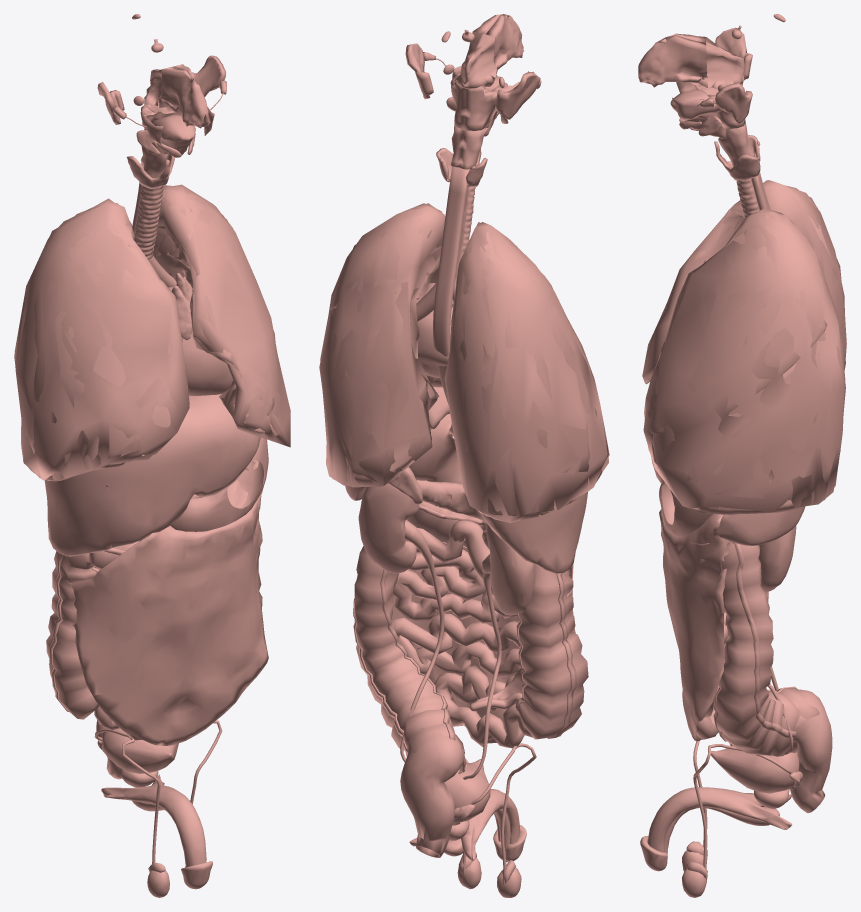
The model's file is organs.glb.
3 views of the same model, side by side, from view 1: azimuth 30°, elevation 25°; view 2: azimuth 150°, elevation 25°; view 3: azimuth 270°, elevation 25° (orthographic). The views are drawn at different scales.
Visible parts, largest first — view 1: Pleura.001, Greater omentum.001, Liver.001, Ascending colon.001, Stomach.001, Corpus cavernosum of penis.001, Mucosa of nasal cavity.001, Urinary bladder.001, Right ventricle.001, Trachea.001, Tongue.001, Superior lobe of left lung.001 (+10 smaller); view 2: Pleura.001, Jejunum.001, Ascending colon.001, Descending colon.001, Sigmoid colon.001, Liver.001, Kidney.l.001, Oesophagus.001, Kidney.r.001, Greater omentum.001, Stomach.001, Oropharynx.001 (+21 smaller); view 3: Pleura.001, Descending colon.001, Greater omentum.001, Sigmoid colon.001, Corpus cavernosum of penis.001, Mucosa of nasal cavity.001, Urinary bladder.001, Spleen.001, Superior lobe of left lung.001, Kidney.l.001, Stomach.001, Nasopharynx.001 (+15 smaller).
Boxes of the visible parts, x1=… form: Pleura.001: x1=14, y1=184, x2=290, y2=480; Greater omentum.001: x1=65, y1=473, x2=268, y2=745; Liver.001: x1=44, y1=394, x2=260, y2=556; Ascending colon.001: x1=46, y1=551, x2=99, y2=719; Stomach.001: x1=170, y1=437, x2=268, y2=531; Corpus cavernosum of penis.001: x1=101, y1=774, x2=206, y2=867; Mucosa of nasal cavity.001: x1=159, y1=64, x2=210, y2=128; Urinary bladder.001: x1=102, y1=728, x2=178, y2=773; Right ventricle.001: x1=182, y1=332, x2=232, y2=396; Trachea.001: x1=134, y1=185, x2=163, y2=260; Tongue.001: x1=152, y1=114, x2=195, y2=154; Superior lobe of left lung.001: x1=163, y1=188, x2=274, y2=428; Pleura.001: x1=319, y1=203, x2=609, y2=523; Jejunum.001: x1=392, y1=528, x2=532, y2=748; Ascending colon.001: x1=517, y1=564, x2=588, y2=739; Descending colon.001: x1=354, y1=546, x2=466, y2=773; Sigmoid colon.001: x1=400, y1=727, x2=464, y2=857; Liver.001: x1=428, y1=387, x2=587, y2=573; Kidney.l.001: x1=358, y1=483, x2=419, y2=573; Oesophagus.001: x1=433, y1=166, x2=469, y2=436; Kidney.r.001: x1=486, y1=524, x2=535, y2=615; Greater omentum.001: x1=392, y1=547, x2=575, y2=743; Stomach.001: x1=409, y1=414, x2=461, y2=483; Oropharynx.001: x1=450, y1=66, x2=528, y2=130; Pleura.001: x1=642, y1=180, x2=846, y2=512; Descending colon.001: x1=715, y1=541, x2=819, y2=756; Greater omentum.001: x1=659, y1=497, x2=729, y2=741; Sigmoid colon.001: x1=790, y1=689, x2=832, y2=813; Corpus cavernosum of penis.001: x1=647, y1=787, x2=791, y2=852; Mucosa of nasal cavity.001: x1=638, y1=33, x2=707, y2=87; Urinary bladder.001: x1=711, y1=748, x2=799, y2=793; Spleen.001: x1=716, y1=506, x2=805, y2=545; Superior lobe of left lung.001: x1=645, y1=211, x2=827, y2=434; Kidney.l.001: x1=758, y1=525, x2=796, y2=591; Stomach.001: x1=659, y1=481, x2=713, y2=536; Nasopharynx.001: x1=706, y1=37, x2=744, y2=89.
Bounding box in the file's own units: 0.264 × 0.8933 × 0.1935.
